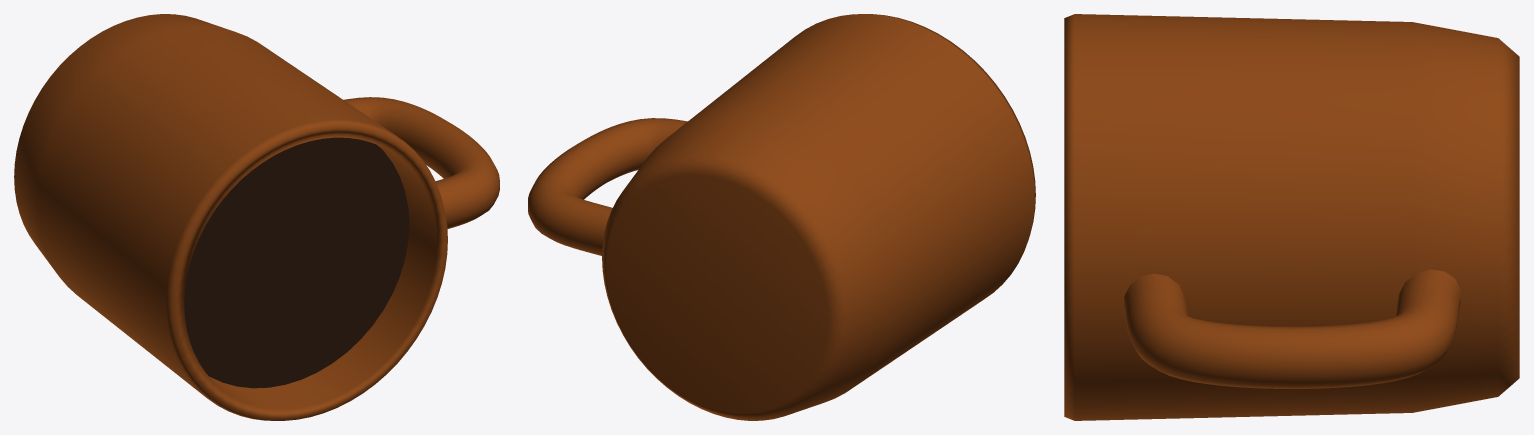
Rendered from mug.obj.
The picture shows the model from 3 angles, left to right: view 1: azimuth 30°, elevation 25°; view 2: azimuth 150°, elevation 25°; view 3: azimuth 270°, elevation 25°; orthographic projection. The views are drawn at different scales.
Parts seen in each view (by area): view 1: mug_0_0, mug_1_650, mug_0_700; view 2: mug_0_0, mug_0_700; view 3: mug_0_0, mug_0_700.
Part boxes in pixels (<box>): mug_0_0: <box>14,14,447,420</box>; mug_1_650: <box>184,137,409,388</box>; mug_0_700: <box>344,97,499,228</box>; mug_0_0: <box>602,14,1035,420</box>; mug_0_700: <box>528,118,687,255</box>; mug_0_0: <box>1064,14,1519,420</box>; mug_0_700: <box>1124,269,1460,388</box>.
Size of the model in its own units: 0.1056 by 0.076 by 0.085.
